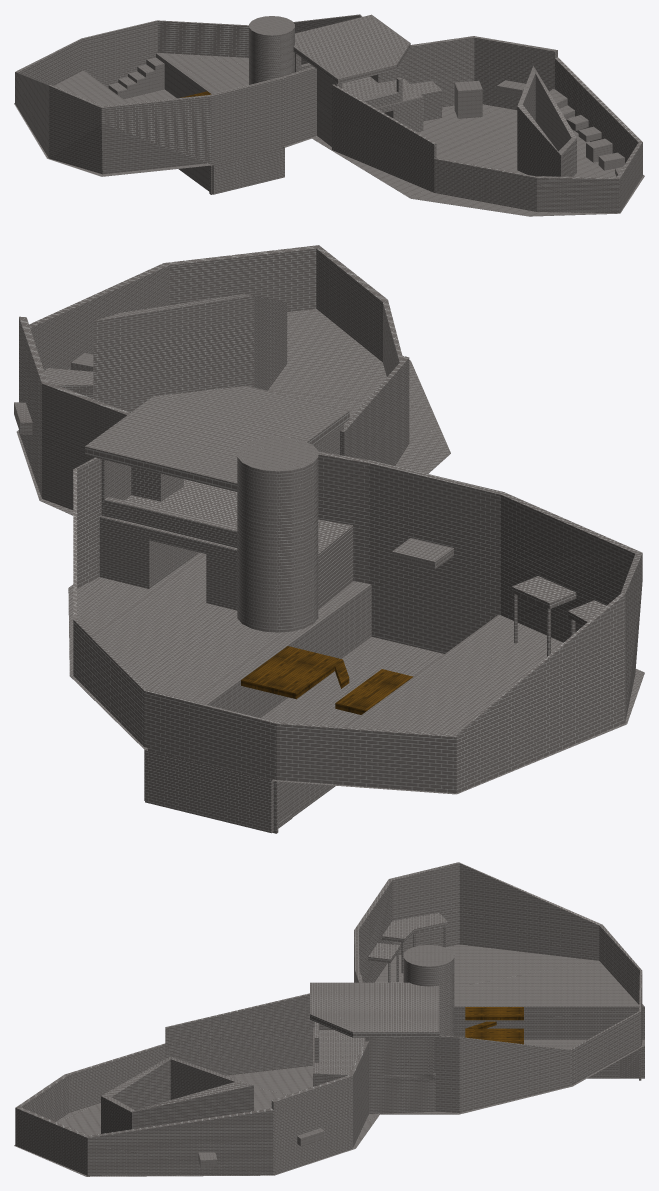
File: level1.FBX
3 renders of one model, top to bottom at view 1: azimuth 30°, elevation 25°; view 2: azimuth 150°, elevation 25°; view 3: azimuth 270°, elevation 25°, orthographic. The views are drawn at different scales.
Visible parts, largest first — view 1: sciany (×2), Strefa2, Strefa1, bramasufit, brama, scianysrodek, wieza, schody, schodek8, schodek3, schodek2, schodek7 (+1 smaller); view 2: sciany (×2), Strefa2, scianysrodek, wieza, brama, bramasufit, Strefa1, most, platforma, schodek6; view 3: sciany (×2), Strefa2, scianysrodek, brama, bramasufit, Strefa1, wieza, most, schody.
Boxes of the visible parts, <box> form: sciany (×2): <box>15,14,642,213</box>; Strefa2: <box>14,53,317,194</box>; Strefa1: <box>312,104,644,216</box>; bramasufit: <box>293,14,410,84</box>; brama: <box>295,53,442,146</box>; scianysrodek: <box>517,66,576,176</box>; wieza: <box>249,16,294,84</box>; schody: <box>108,57,164,99</box>; schodek8: <box>454,80,482,118</box>; schodek3: <box>586,138,612,162</box>; schodek2: <box>598,152,624,170</box>; schodek7: <box>497,80,525,97</box>; sciany (×2): <box>19,245,642,833</box>; Strefa2: <box>68,552,644,833</box>; scianysrodek: <box>93,293,287,412</box>; wieza: <box>237,436,318,632</box>; brama: <box>99,424,343,610</box>; bramasufit: <box>85,386,349,491</box>; Strefa1: <box>16,309,450,515</box>; most: <box>241,646,413,714</box>; platforma: <box>392,538,453,569</box>; schodek6: <box>44,368,93,398</box>; sciany (×2): <box>15,862,642,1175</box>; Strefa2: <box>375,944,644,1114</box>; scianysrodek: <box>101,1056,253,1133</box>; brama: <box>313,1022,435,1113</box>; bramasufit: <box>310,982,439,1037</box>; Strefa1: <box>14,1065,379,1176</box>; wieza: <box>403,945,454,1036</box>; most: <box>465,1007,523,1044</box>; schody: <box>619,1050,638,1078</box>.
Size of the model in its own units: 4950 by 1300 by 5481.
Materials: 2 (2 with a texture image).
